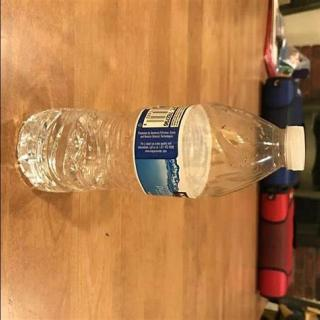Anorganik: (16, 108, 309, 198)
